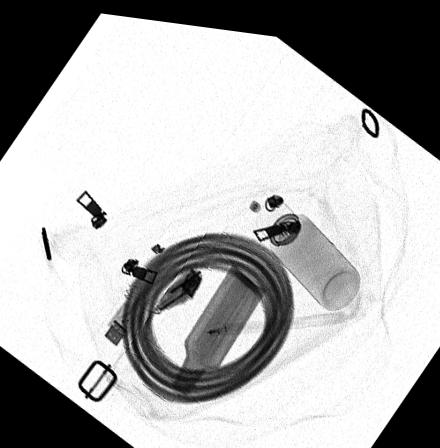Sprayer: (254, 192, 361, 301)
